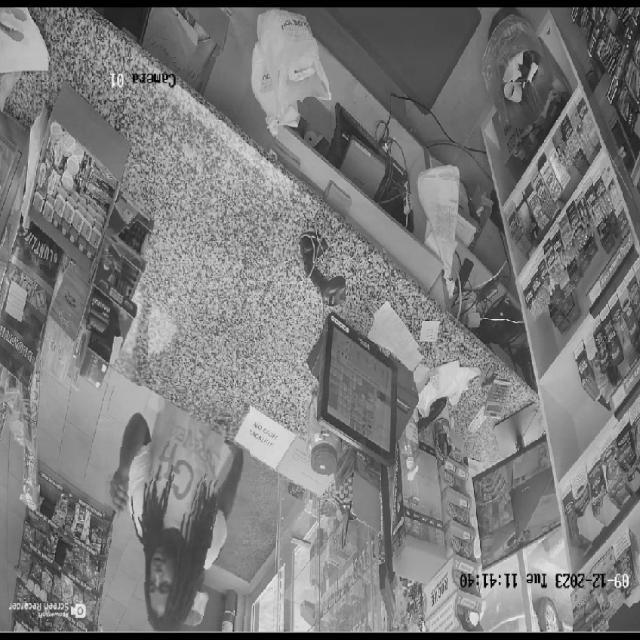normal: (100, 386, 250, 633)
